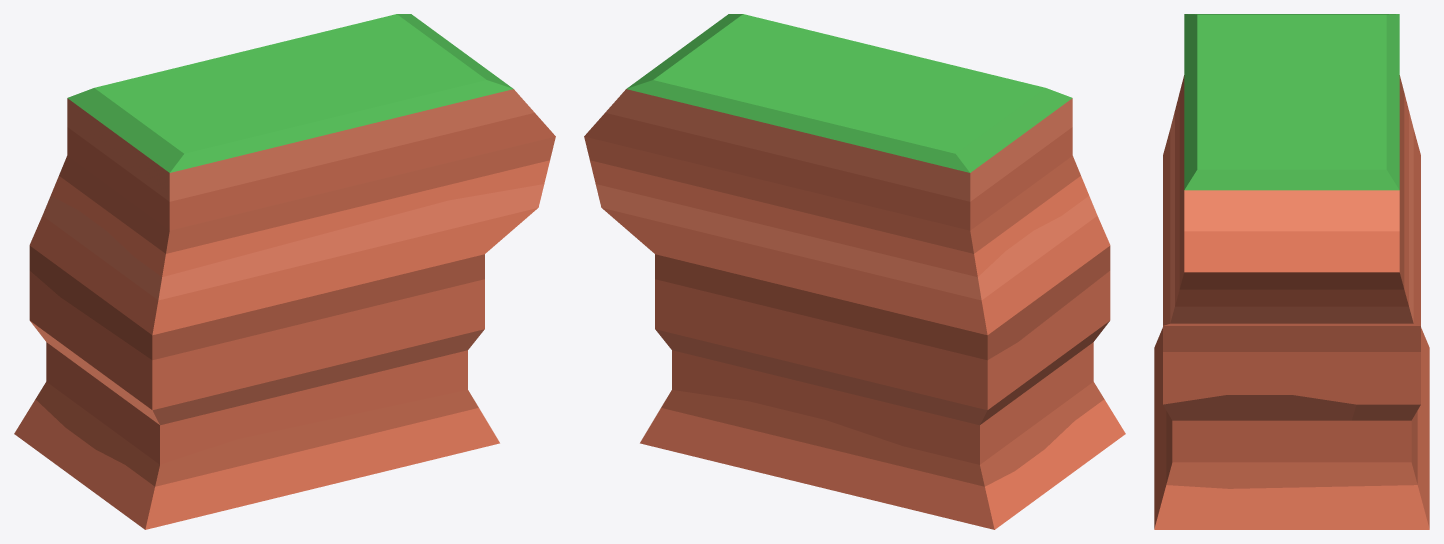
File: StoneWall027.fbx
3 renders of one model, left to right at view 1: azimuth 30°, elevation 25°; view 2: azimuth 150°, elevation 25°; view 3: azimuth 270°, elevation 25°, orthographic. The views are drawn at different scales.
Visible parts, largest first — view 1: StoneWall027; view 2: StoneWall027; view 3: StoneWall027.
Boxes of the visible parts, x1,y1,x2,y2 form: StoneWall027: [14, 14, 555, 529]; StoneWall027: [584, 14, 1125, 529]; StoneWall027: [1154, 14, 1429, 529].
Bounding box in the file's own units: 619 × 482 × 331.
